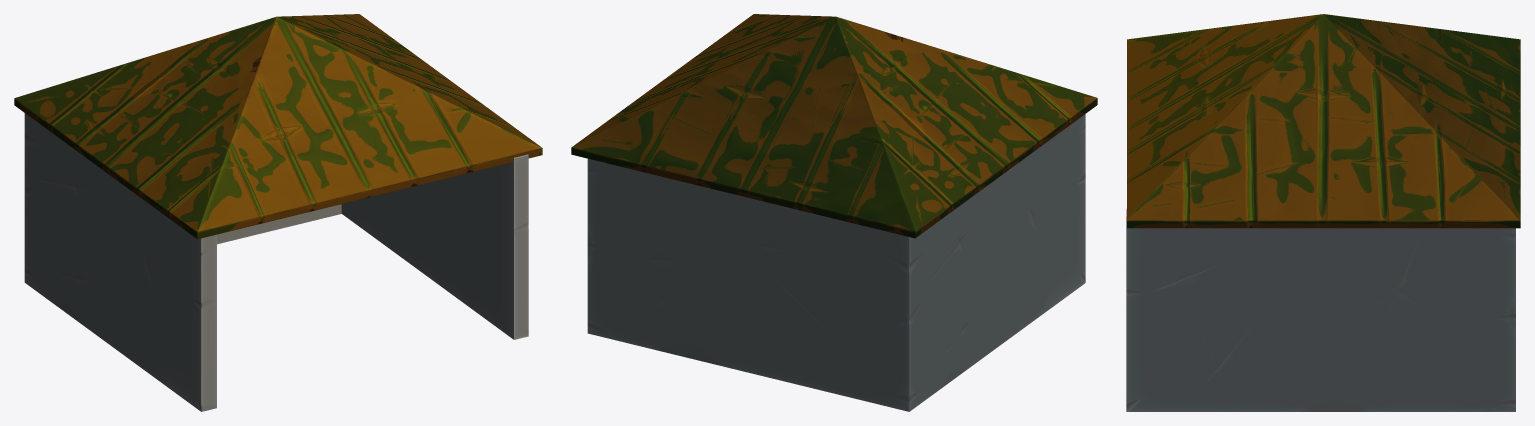
File: Backroom_Roof+wall.fbx
The picture shows the model from 3 angles, left to right: view 1: azimuth 30°, elevation 25°; view 2: azimuth 150°, elevation 25°; view 3: azimuth 270°, elevation 25°; orthographic projection. The views are drawn at different scales.
Visible parts, largest first — view 1: Backroom_Roof_LOW, Backroom_wall_LOW; view 2: Backroom_wall_LOW, Backroom_Roof_LOW; view 3: Backroom_Roof_LOW, Backroom_wall_LOW.
Boxes of the visible parts, bbox=[...] form: Backroom_Roof_LOW: bbox=[14, 14, 542, 239]; Backroom_wall_LOW: bbox=[24, 113, 528, 411]; Backroom_wall_LOW: bbox=[587, 114, 1085, 411]; Backroom_Roof_LOW: bbox=[571, 14, 1097, 238]; Backroom_Roof_LOW: bbox=[1127, 14, 1520, 228]; Backroom_wall_LOW: bbox=[1126, 208, 1515, 411].
Size of the model in its own units: 708 by 572 by 651.
2 materials, 2 textured.
